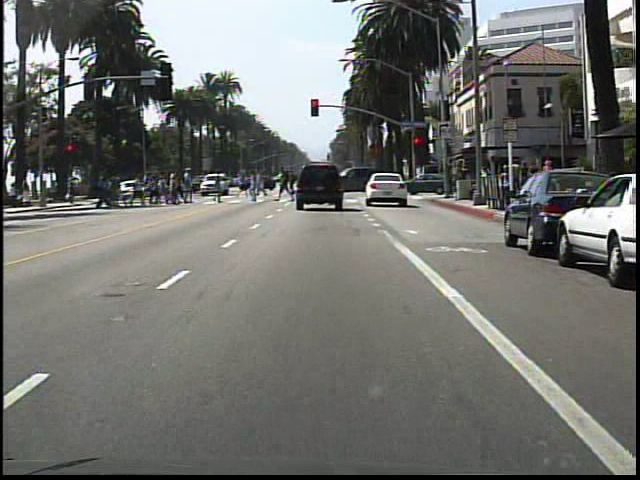person: (496, 162, 514, 211)
